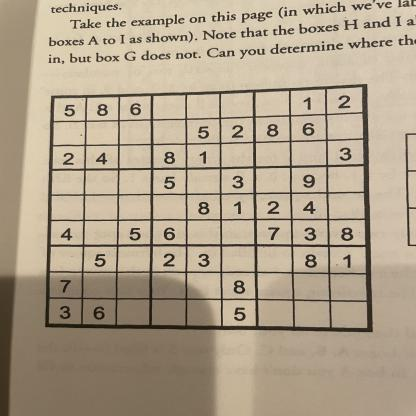sudoku: (38, 79, 378, 338)
